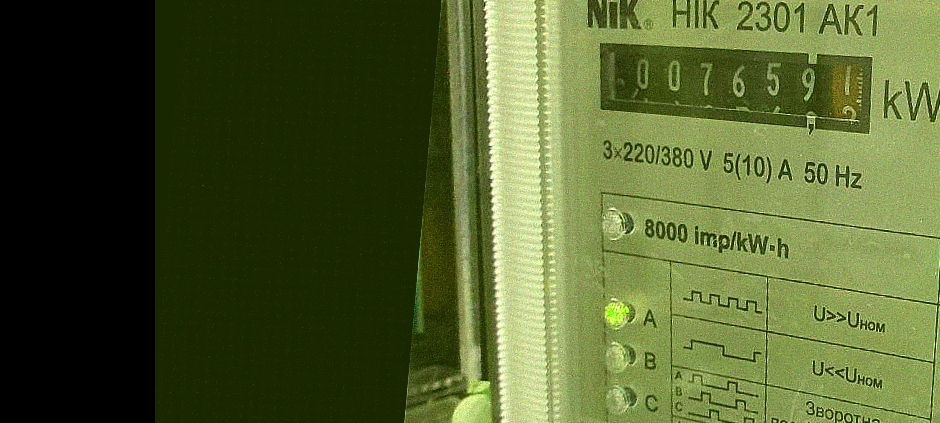0: (663, 54, 686, 96), (632, 54, 655, 93)
1: (836, 61, 859, 99)
5: (761, 58, 786, 100)
6: (727, 59, 752, 102)
7: (694, 57, 719, 98)
9: (797, 63, 821, 105)
screen: (585, 27, 884, 144)
